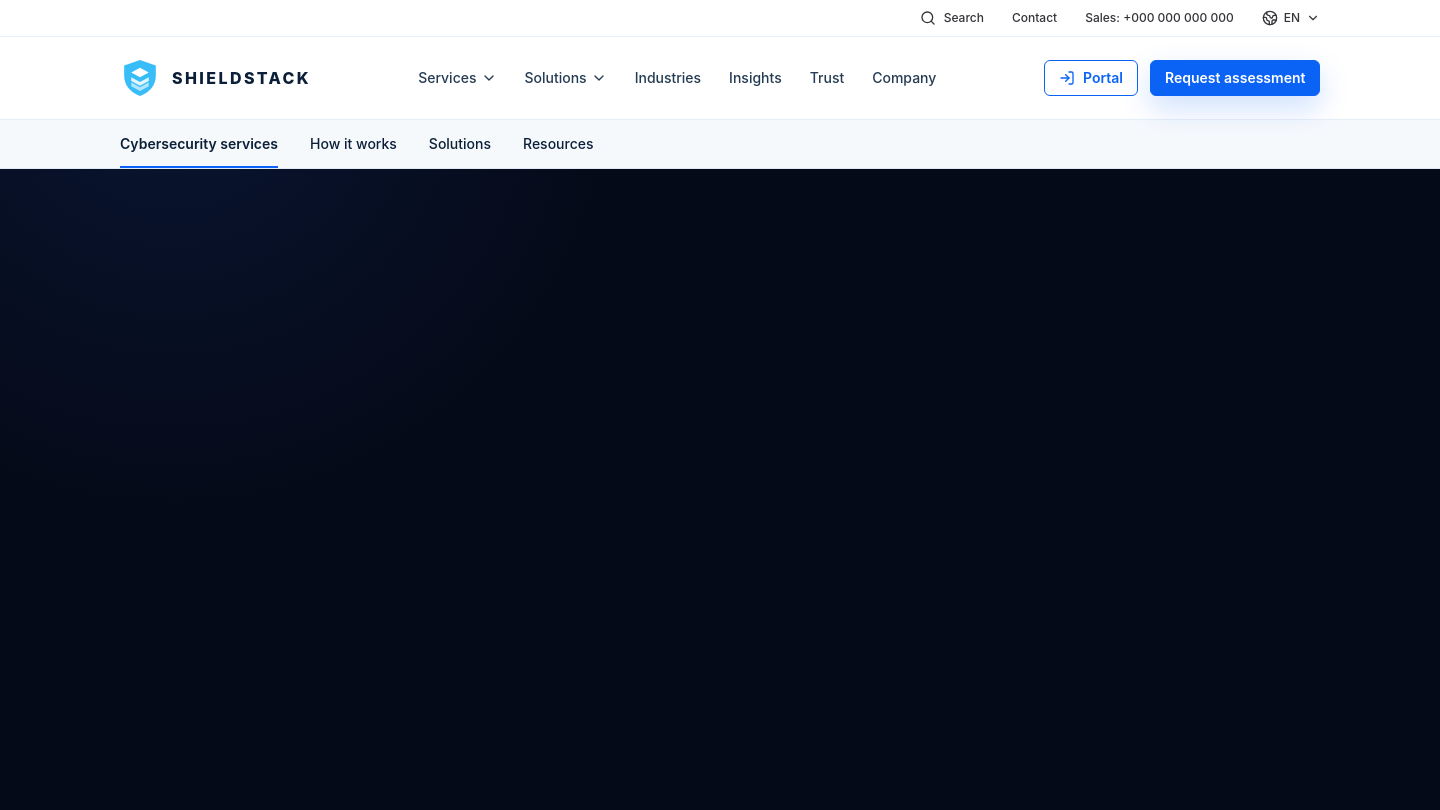
Scenario: accessible navigation › opens and closes a mega menu with keyboard controls
This screenshot has width=1440, height=810.
Click the button "Services": (457, 78) [406,56,508,100]
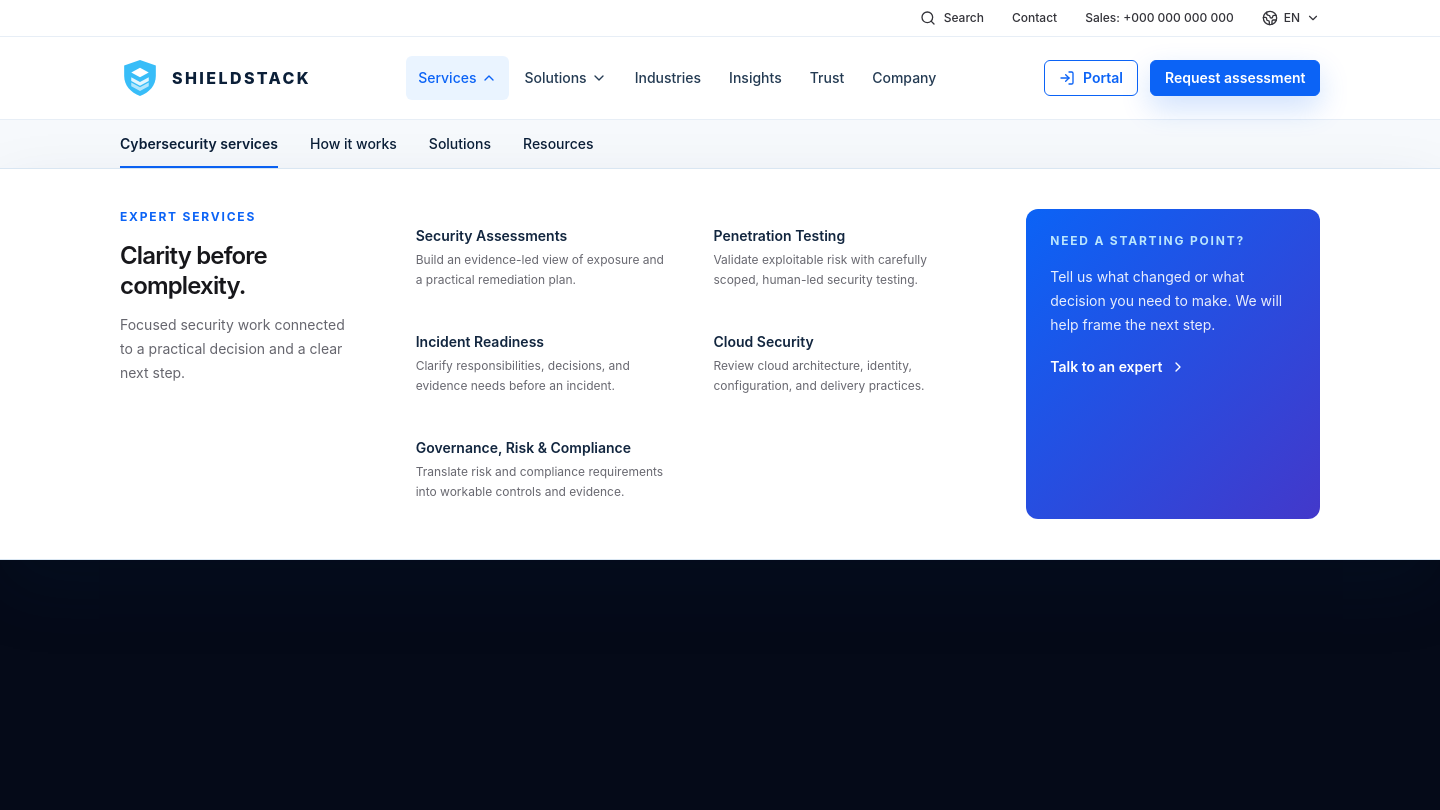
Now the button "Services" is expanded, box [406,56,508,100]
Now the element named "services menu" is shown, box [0,168,1439,560]
Press Escape
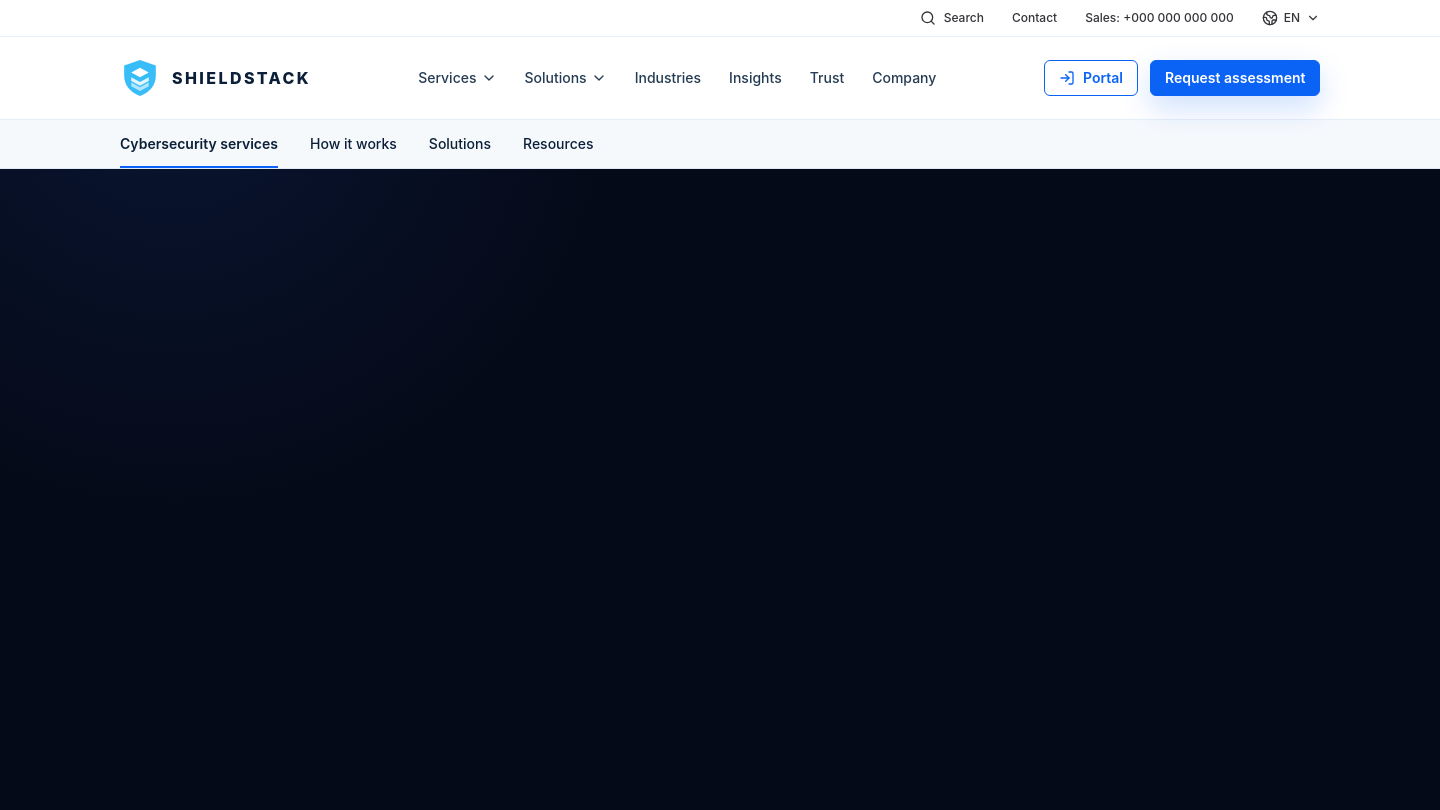
Now the button "Services" is collapsed, box [406,56,508,100]
